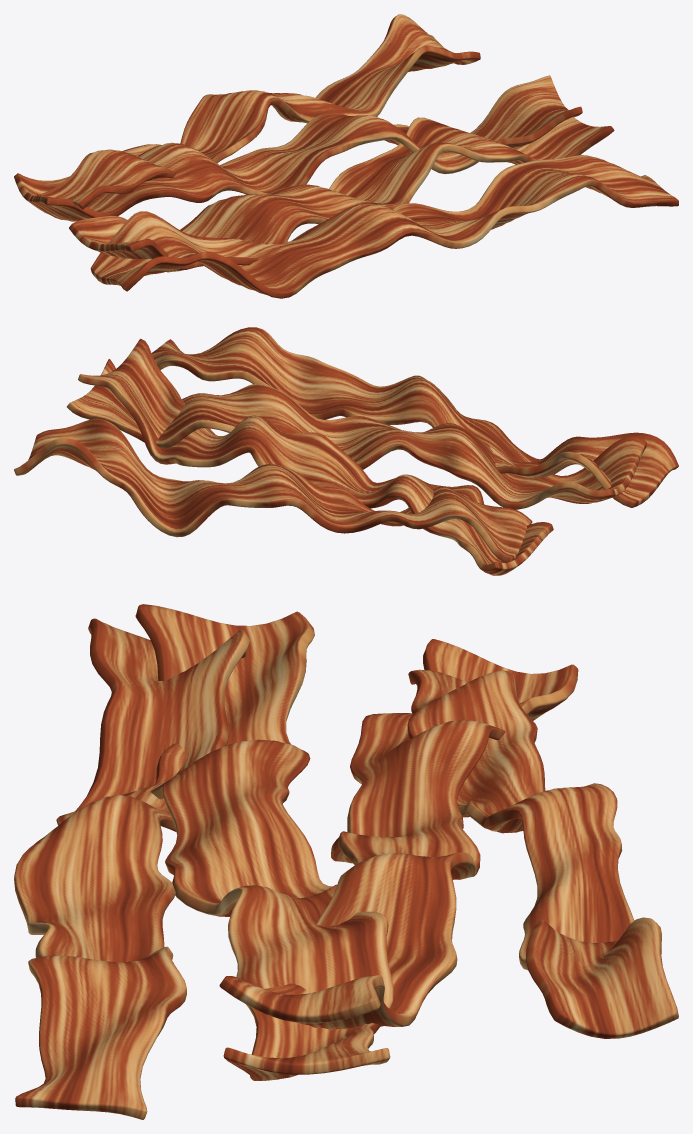
File: bacon.glb
The picture shows the model from 3 angles, top to bottom: view 1: azimuth 30°, elevation 25°; view 2: azimuth 150°, elevation 25°; view 3: azimuth 270°, elevation 25°; orthographic projection. The views are drawn at different scales.
Parts seen in each view (by area): view 1: bacon; view 2: bacon; view 3: bacon.
Part boxes in pixels (bbox=[...]): bacon: bbox=[14, 14, 678, 298]; bacon: bbox=[14, 327, 678, 575]; bacon: bbox=[14, 604, 678, 1119].
Bounding box in the file's own units: 2.3 × 0.3434 × 1.5.
1 material, 1 textured.
